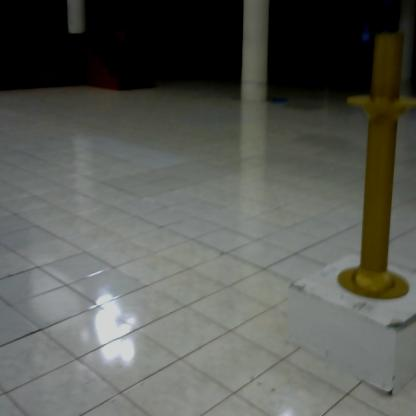pole: (330, 23, 416, 309)
